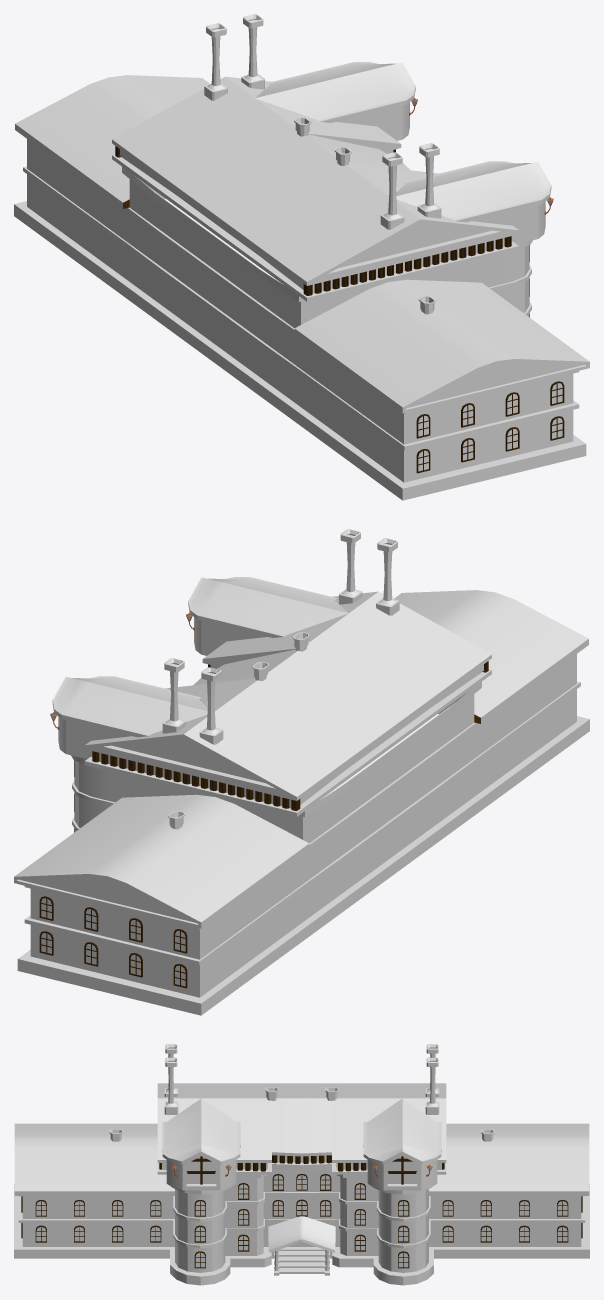
The model's file is Mansion.fbx.
The picture shows the model from 3 angles, top to bottom: view 1: azimuth 30°, elevation 25°; view 2: azimuth 150°, elevation 25°; view 3: azimuth 270°, elevation 25°; orthographic projection. The views are drawn at different scales.
Visible parts, largest first — view 1: MAIN_BUILDING; view 2: MAIN_BUILDING; view 3: MAIN_BUILDING.
Part boxes in pixels (box(x1,y1,x2,y2)): MAIN_BUILDING: box(14, 14, 589, 500); MAIN_BUILDING: box(14, 529, 589, 1015); MAIN_BUILDING: box(14, 1044, 589, 1285).
Bounding box in the file's own units: 1791 × 1583 × 4579.
